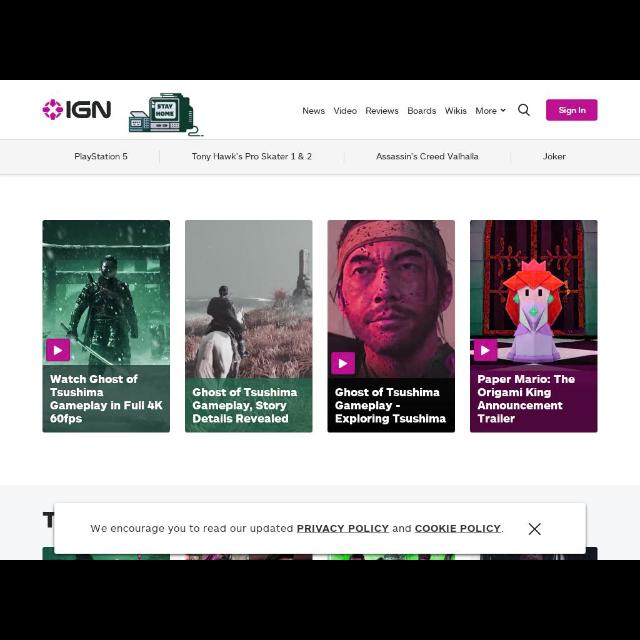icon: (518, 104, 530, 118), (528, 522, 540, 534), (499, 108, 505, 112)
image: (185, 220, 312, 378), (328, 220, 454, 378), (469, 220, 598, 366), (43, 220, 169, 366), (128, 91, 204, 139), (42, 97, 112, 123)
multitab: (1, 140, 639, 174)
text: (51, 375, 162, 425), (477, 374, 575, 424), (90, 525, 502, 535), (193, 386, 297, 424), (336, 388, 444, 424), (376, 152, 479, 162), (192, 152, 314, 160), (74, 152, 130, 162), (365, 106, 399, 115), (558, 106, 588, 115), (542, 152, 568, 162), (444, 106, 468, 115), (408, 106, 434, 114), (332, 106, 356, 114), (302, 108, 324, 116), (476, 108, 496, 114)
textbutton: (546, 100, 598, 120)
toolbar: (1, 82, 639, 138)
